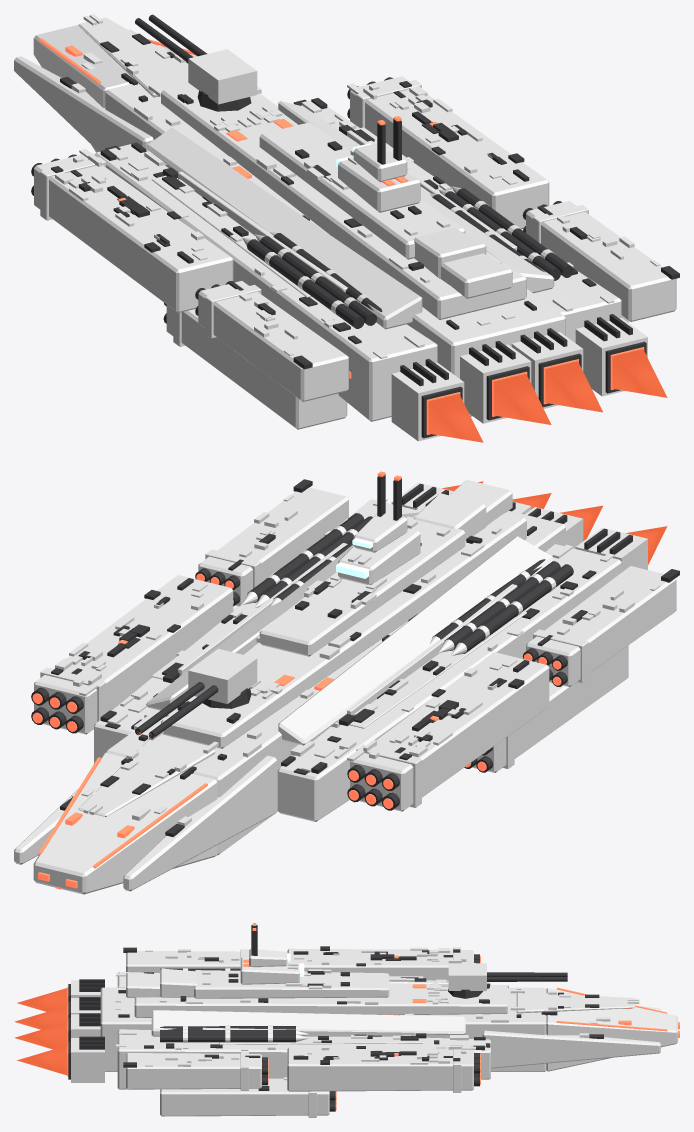
The model's file is oblivion.glb.
3 renders of one model, top to bottom at view 1: azimuth 30°, elevation 25°; view 2: azimuth 150°, elevation 25°; view 3: azimuth 270°, elevation 25°, orthographic. The views are drawn at different scales.
Parts seen in each view (by area): view 1: Missile_Bank_Upper, Greebles, Missile_Bank_Aft, Side_Module, Shoulder_Armor, Engines, Upper_Deck, Core_Hull, Missile_Tubes, Engine_Plumes, Upper_Deck_2, Missile_Bank_Lower (+13 smaller); view 2: Missile_Bank_Upper, Greebles, Side_Module, Missile_Bank_Aft, Shoulder_Armor, Missile_Tubes, Upper_Deck, Nose, Nose_Cheek, Upper_Deck_2, Core_Hull, Heavy_Cannon (+14 smaller); view 3: Missile_Bank_Upper, Greebles, Upper_Deck, Missile_Bank_Aft, Shoulder_Armor, Core_Hull, Missile_Bank_Lower, Side_Module, Nose_Cheek, Upper_Deck_2, Nose, Engines (+13 smaller).
Part boxes in pixels (box(x1,y1,x2,y2)): Missile_Bank_Upper: box(34, 76, 549, 312); Greebles: box(51, 14, 679, 369); Missile_Bank_Aft: box(198, 201, 676, 401); Side_Module: box(94, 100, 621, 421); Shoulder_Armor: box(146, 101, 554, 329); Engines: box(391, 314, 647, 441); Upper_Deck: box(161, 83, 526, 319); Core_Hull: box(105, 83, 565, 416); Missile_Tubes: box(31, 77, 573, 328); Engine_Plumes: box(428, 349, 667, 442); Upper_Deck_2: box(259, 122, 465, 259); Missile_Bank_Lower: box(166, 305, 628, 429); Missile_Bank_Upper: box(34, 575, 549, 811); Greebles: box(51, 479, 679, 838); Side_Module: box(94, 499, 621, 821); Missile_Bank_Aft: box(198, 487, 676, 686); Shoulder_Armor: box(146, 512, 554, 745); Missile_Tubes: box(31, 513, 573, 810); Upper_Deck: box(161, 513, 526, 748); Nose: box(33, 752, 217, 894); Nose_Cheek: box(14, 755, 276, 891); Upper_Deck_2: box(259, 516, 465, 656); Core_Hull: box(105, 510, 565, 855); Heavy_Cannon: box(135, 649, 257, 738); Missile_Bank_Upper: box(287, 948, 473, 1091); Greebles: box(115, 946, 639, 1090); Upper_Deck: box(134, 983, 507, 1017); Missile_Bank_Aft: box(126, 950, 261, 1089); Shoulder_Armor: box(151, 981, 465, 1036); Core_Hull: box(100, 987, 546, 1071); Missile_Bank_Lower: box(160, 1078, 329, 1116); Side_Module: box(117, 972, 490, 1089); Nose_Cheek: box(482, 1006, 660, 1068); Upper_Deck_2: box(194, 970, 389, 998); Nose: box(546, 988, 677, 1071); Engines: box(67, 979, 104, 1082).
Size of the model in its own units: 6.57 by 3.64 by 15.69.
